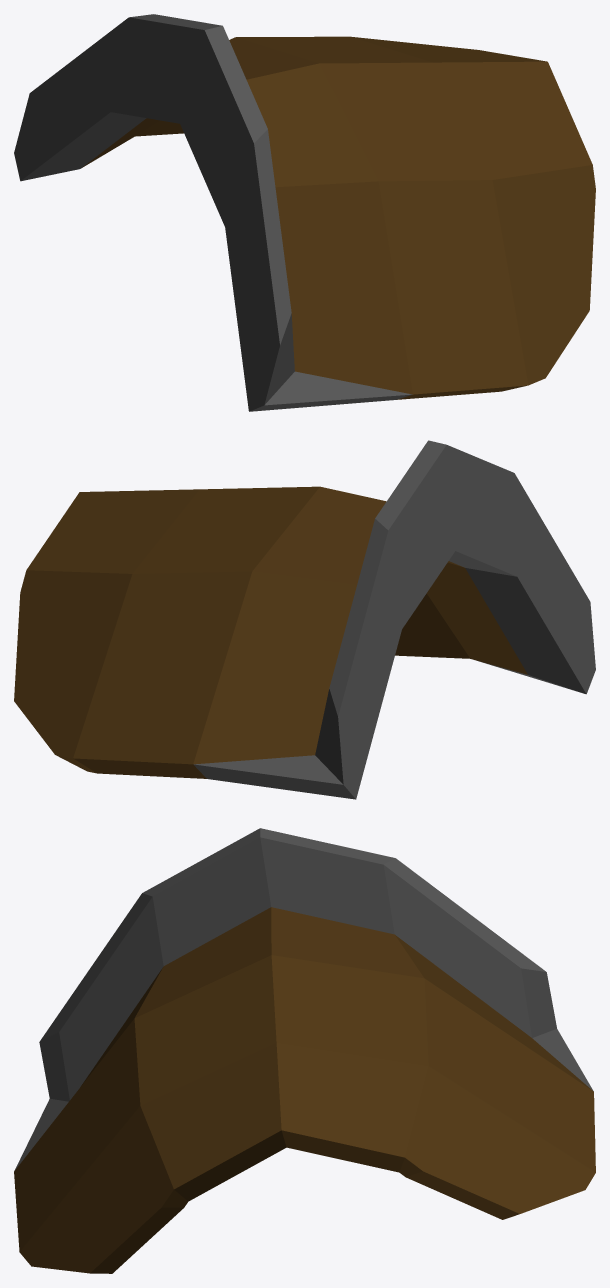
File: LeatherShoulderL.fbx
The picture shows the model from 3 angles, top to bottom: view 1: azimuth 30°, elevation 25°; view 2: azimuth 150°, elevation 25°; view 3: azimuth 270°, elevation 25°; orthographic projection.
Parts seen in each view (by area): view 1: ShoulderLeatherLeft; view 2: ShoulderLeatherLeft; view 3: ShoulderLeatherLeft.
Boxes of the visible parts, <box> form: ShoulderLeatherLeft: <box>14,14,595,411</box>; ShoulderLeatherLeft: <box>14,440,595,799</box>; ShoulderLeatherLeft: <box>14,828,595,1273</box>.
Size of the model in its own units: 0.2159 by 0.1713 by 0.2678.
